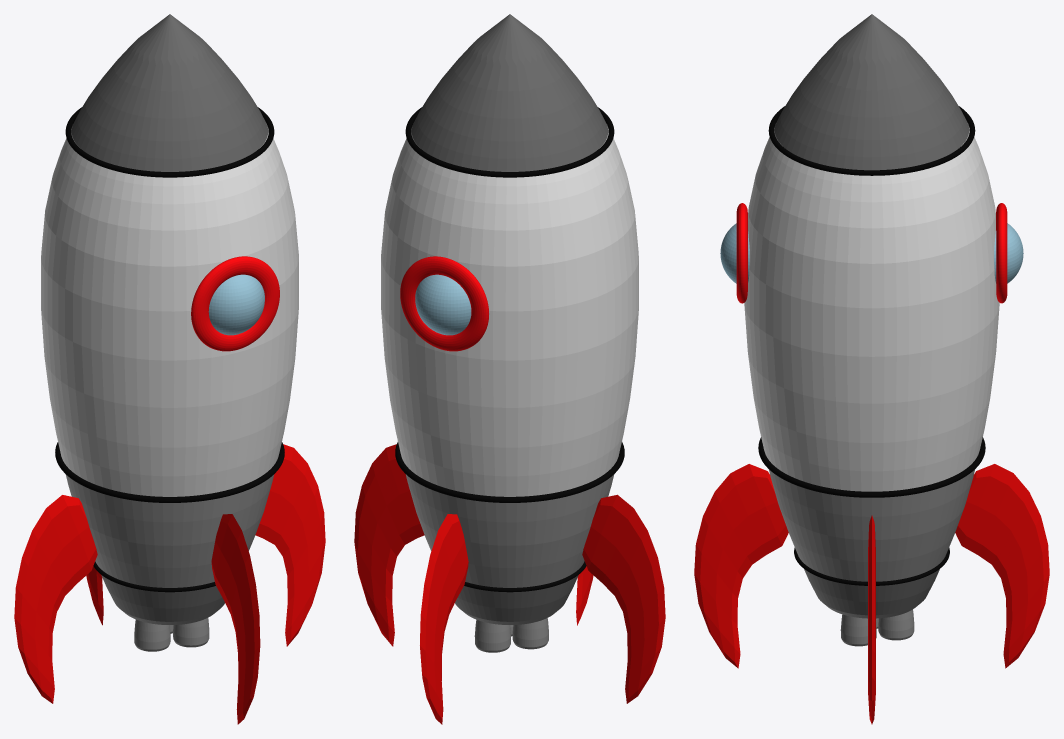
Rendered from GameAssetRocket.fbx.
3 views of the same model, side by side, from view 1: azimuth 30°, elevation 25°; view 2: azimuth 150°, elevation 25°; view 3: azimuth 270°, elevation 25° (orthographic).
Parts seen in each view (by area): view 1: Rocket; view 2: Rocket; view 3: Rocket.
Part boxes in pixels (box(x1,y1,x2,y2)): Rocket: box(14, 14, 325, 724); Rocket: box(354, 14, 665, 724); Rocket: box(694, 14, 1049, 724).
Bounding box in the file's own units: 380 × 772 × 380.
